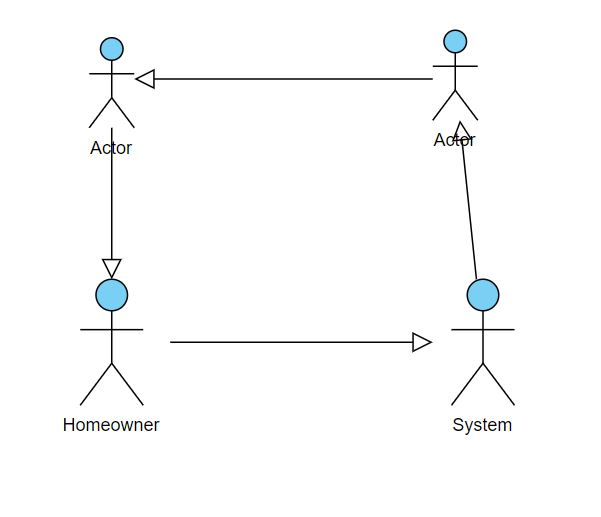actor: (450, 279, 517, 407), (78, 279, 144, 407), (85, 36, 136, 130), (431, 29, 479, 120)
generalization: (164, 328, 434, 355), (135, 68, 433, 89), (453, 122, 479, 278), (102, 130, 123, 279)
text: (52, 415, 164, 437), (450, 417, 514, 438), (87, 137, 140, 158), (432, 129, 477, 149)
